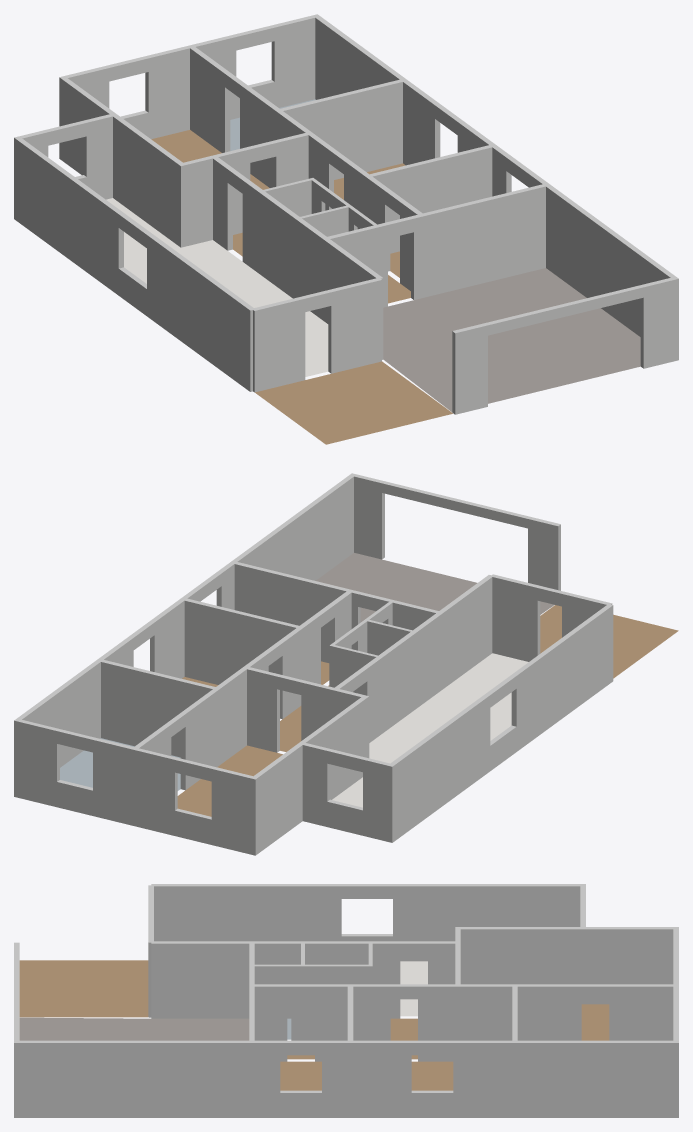
File: tranquil-oasis-3d.glb
3 renders of one model, top to bottom at view 1: azimuth 30°, elevation 25°; view 2: azimuth 150°, elevation 25°; view 3: azimuth 270°, elevation 25°, orthographic. The views are drawn at different scales.
Visible parts, largest first — view 1: walls, floors; view 2: walls, floors; view 3: walls, floors.
Boxes of the visible parts, x1=… form: walls: x1=14, y1=14, x2=678, y2=414; floors: x1=106, y1=99, x2=640, y2=444; walls: x1=14, y1=473, x2=613, y2=855; floors: x1=60, y1=553, x2=678, y2=816; walls: x1=14, y1=884, x2=678, y2=1117; floors: x1=19, y1=960, x2=609, y2=1090.
Bounding box in the file's own units: 11.08 × 2.44 × 19.6.
